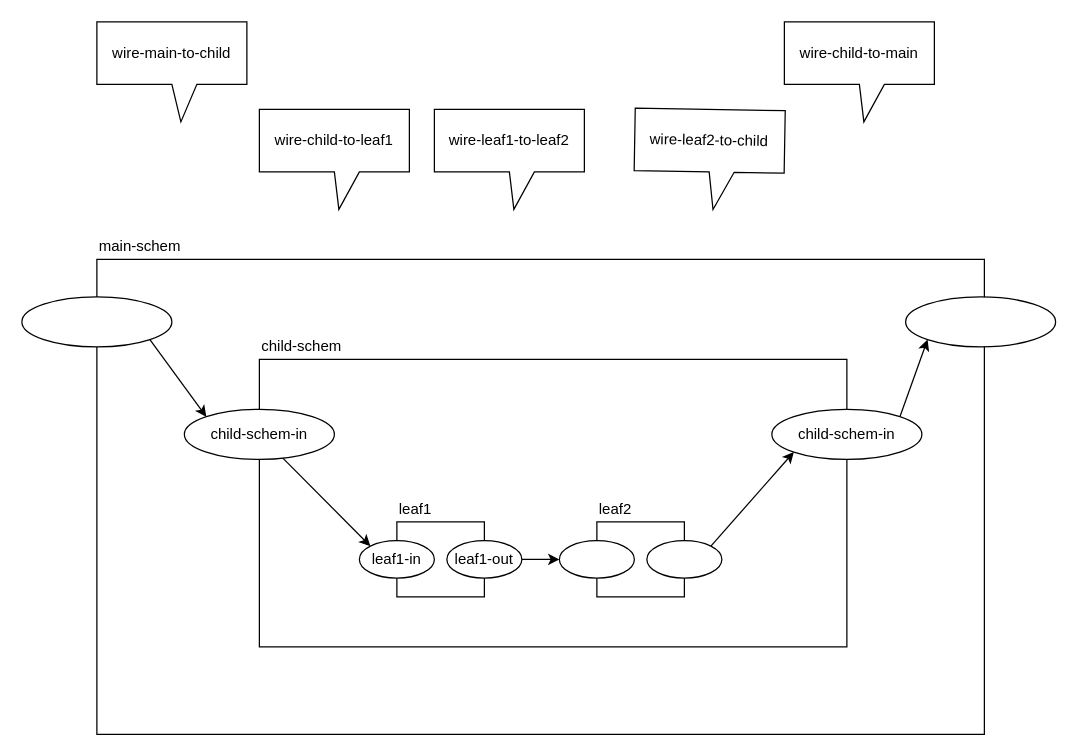
This 1078x756 diagram has some shape labels left out. The shapes that lost their labels are listed below. From the top down, each one's centre as x and y in pixels, then its label:
At [96,321]: "main-schem-in".
At [980,321]: "main-schem-out".
At [596,558]: "leaf2-in".
At [684,558]: "leaf2-out".
